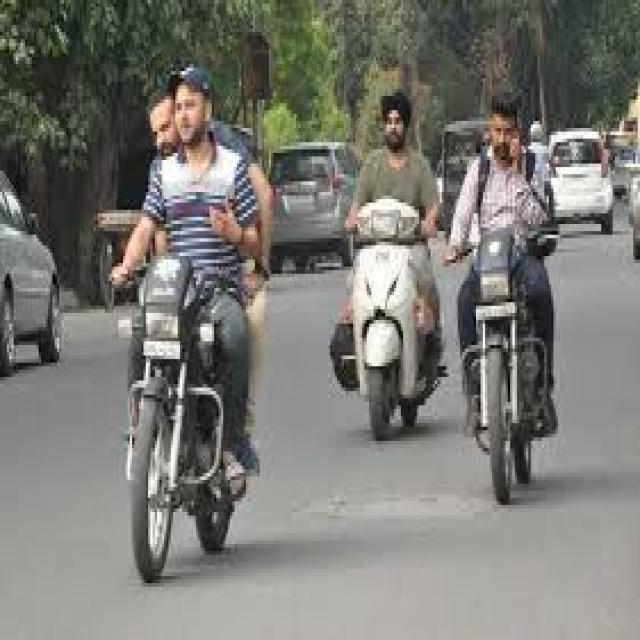No Helmet: (142, 33, 279, 324), (473, 46, 600, 312), (353, 15, 476, 246)
